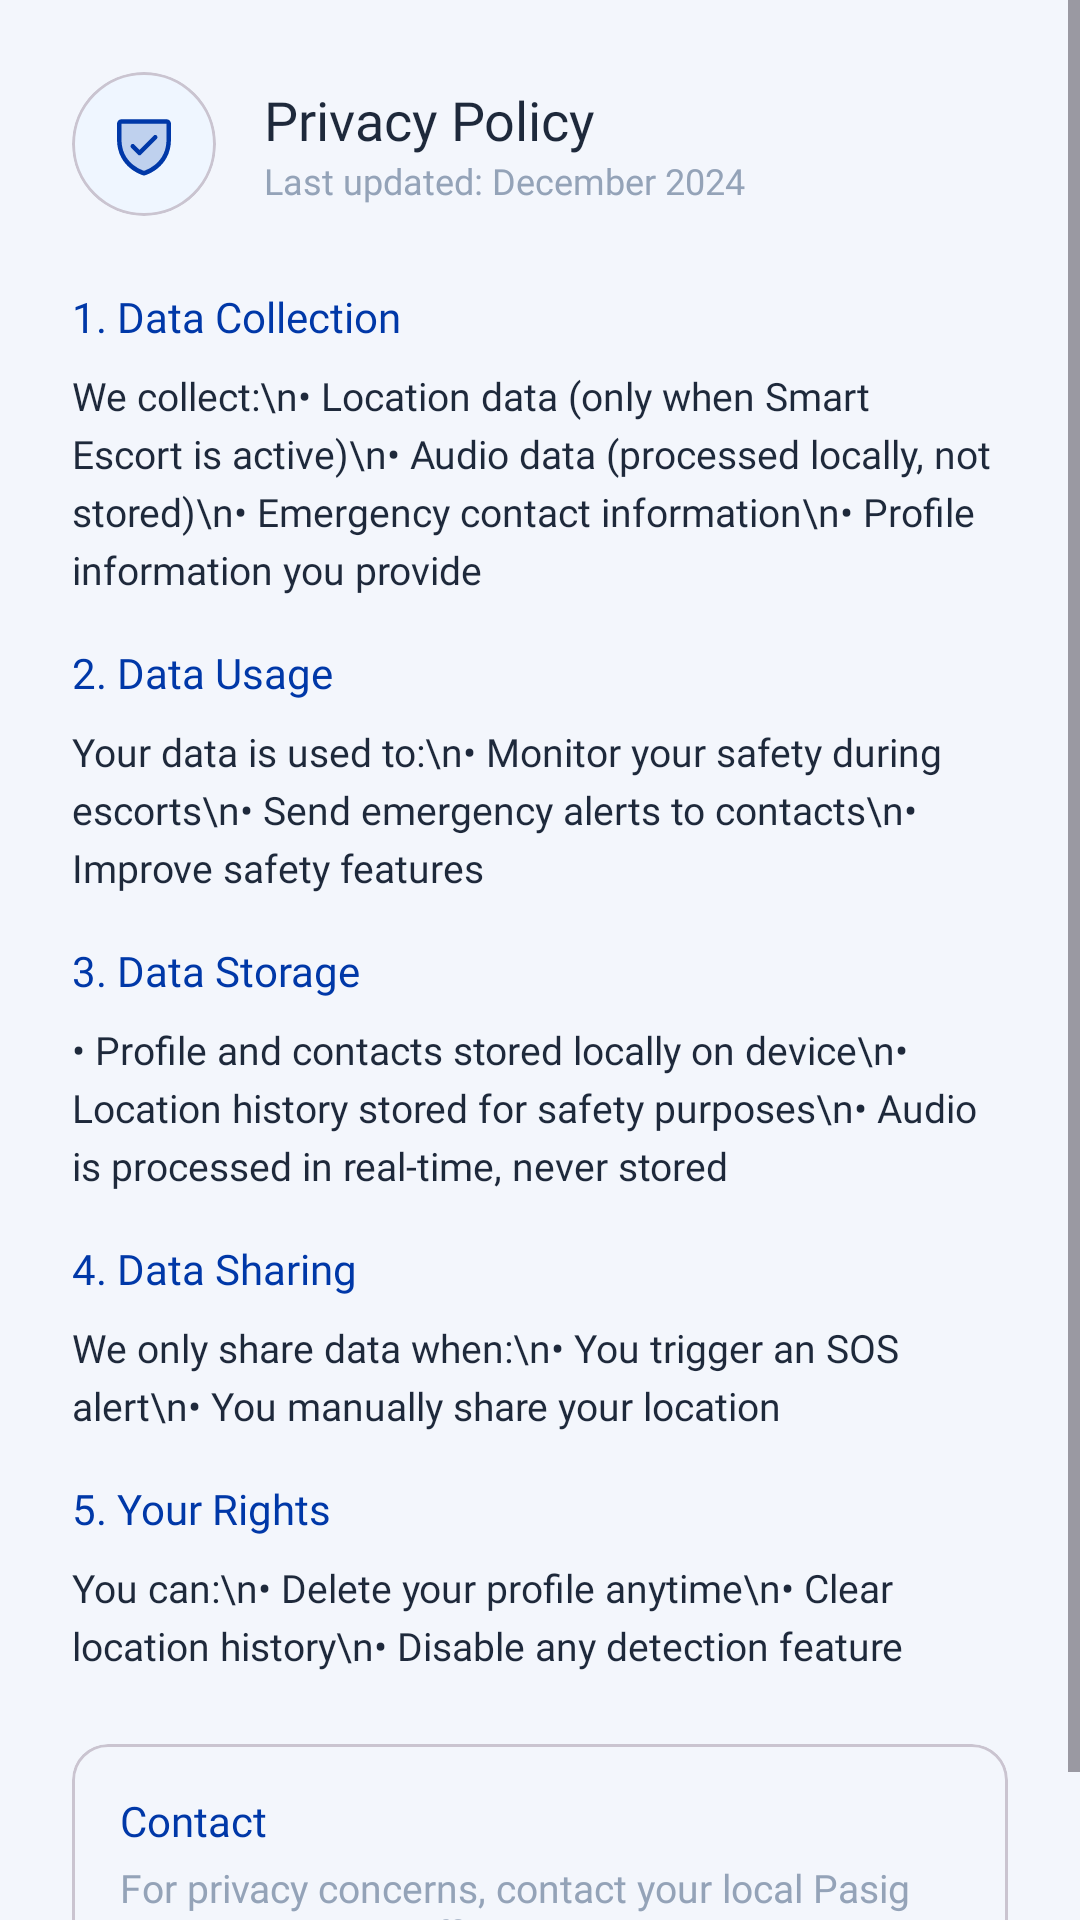

Where to tap for icons on this 1080px×1920px app screen, as (x,y):
shield check: (144,147)
